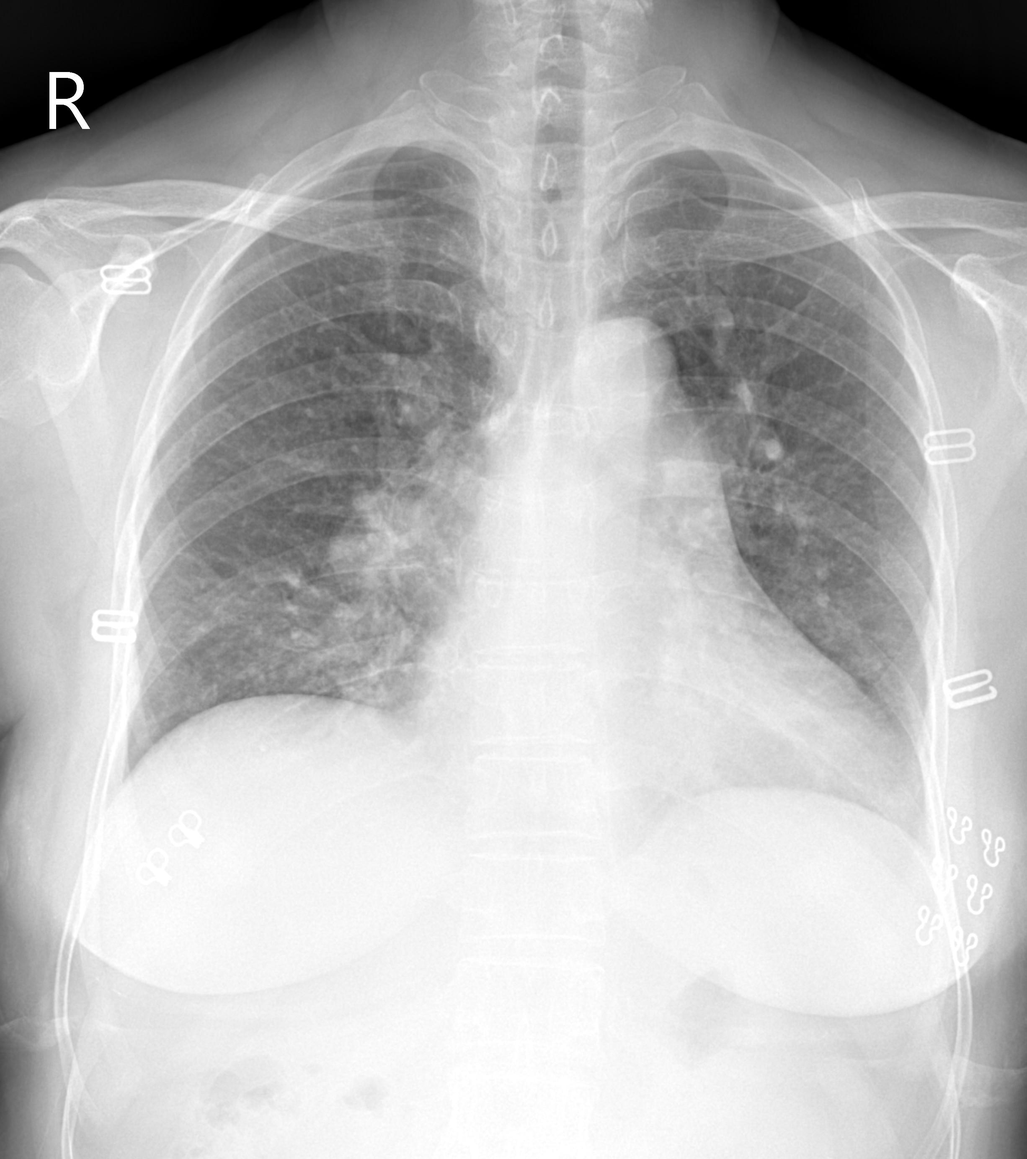Aortic enlargement: (575, 322, 680, 498)
Cardiomegaly: (409, 654, 916, 816)
